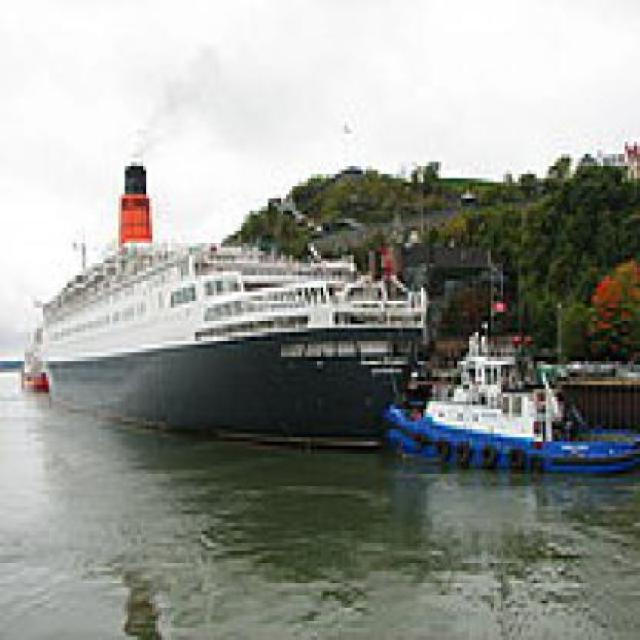cruise: (31, 151, 443, 446)
